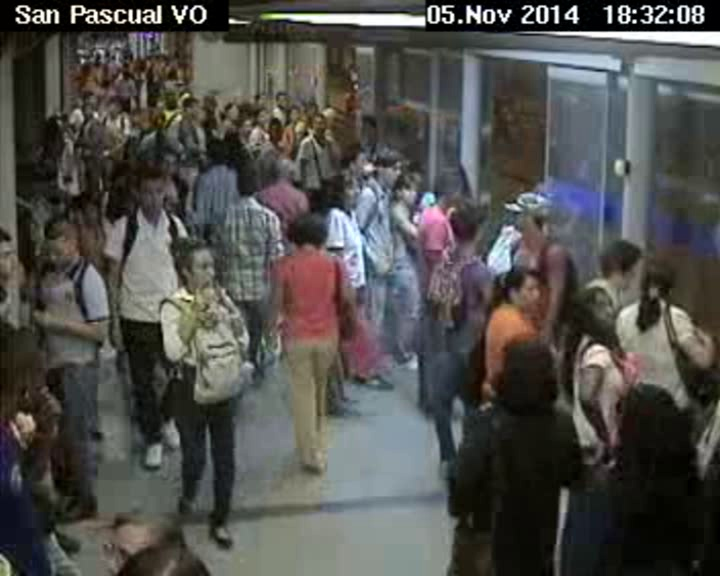person: (616, 368, 699, 494), (90, 501, 185, 576), (484, 332, 560, 404), (164, 226, 222, 295), (569, 280, 621, 345), (489, 259, 545, 315), (505, 186, 553, 243), (638, 251, 674, 324), (1, 220, 30, 286), (281, 211, 330, 250), (424, 165, 464, 209), (45, 215, 79, 266), (601, 231, 632, 284), (446, 207, 483, 251), (135, 168, 167, 215), (327, 172, 362, 212), (377, 148, 406, 188), (238, 160, 260, 201), (396, 172, 419, 209), (341, 144, 370, 172), (362, 112, 385, 142), (150, 109, 170, 139), (270, 153, 292, 178), (206, 136, 224, 164), (267, 116, 284, 145), (250, 107, 270, 130), (217, 102, 237, 123), (181, 98, 199, 120), (308, 114, 326, 135), (80, 92, 100, 108), (80, 104, 97, 122), (286, 104, 301, 123), (275, 90, 289, 110), (106, 100, 119, 118)
